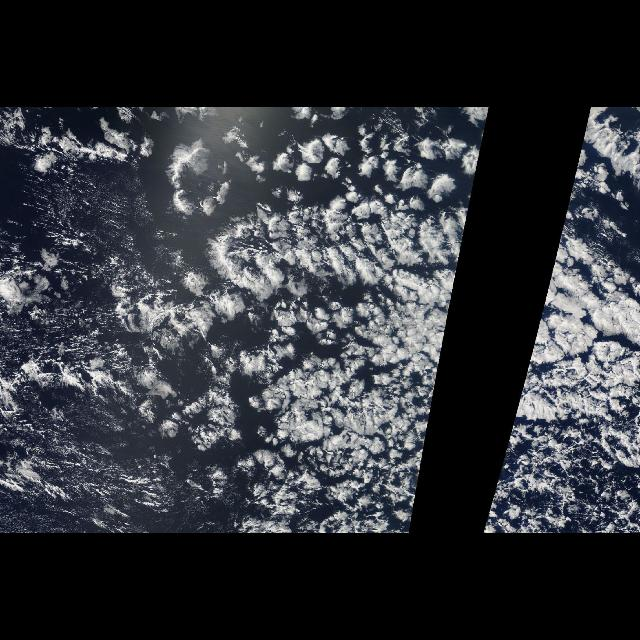Flower: (156, 113, 490, 532), (480, 113, 640, 532)
Sugar: (6, 111, 180, 533)
